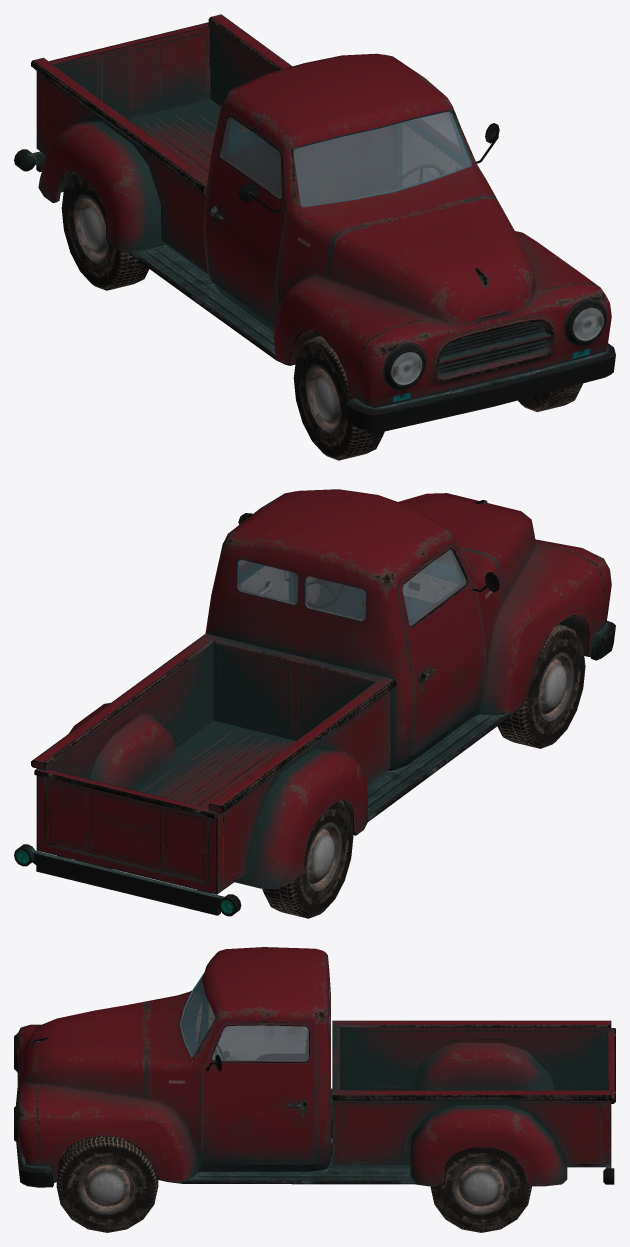
3 renders of one model, top to bottom at view 1: azimuth 30°, elevation 25°; view 2: azimuth 150°, elevation 25°; view 3: azimuth 270°, elevation 25°, orthographic. The views are drawn at different scales.
Parts seen in each view (by area): view 1: carroceria, janelas, interior, roda_dianteira_direita; view 2: carroceria, roda_dianteira_direita, janelas, interior; view 3: carroceria, roda_dianteira_direita, janelas, interior.
Part boxes in pixels (x1=…): carroceria: x1=14, y1=14, x2=615, y2=433; janelas: x1=221, y1=111, x2=470, y2=206; interior: x1=227, y1=110, x2=472, y2=207; roda_dianteira_direita: x1=61, y1=172, x2=582, y2=460; carroceria: x1=14, y1=489, x2=615, y2=916; roda_dianteira_direita: x1=76, y1=624, x2=585, y2=918; janelas: x1=238, y1=549, x2=465, y2=626; interior: x1=237, y1=560, x2=461, y2=622; carroceria: x1=14, y1=947, x2=615, y2=1187; roda_dianteira_direita: x1=56, y1=1136, x2=531, y2=1232; janelas: x1=181, y1=974, x2=308, y2=1061; interior: x1=180, y1=973, x2=330, y2=1162.
Size of the model in its own units: 13.58 by 13.53 by 33.64.
4 materials, 4 textured.
